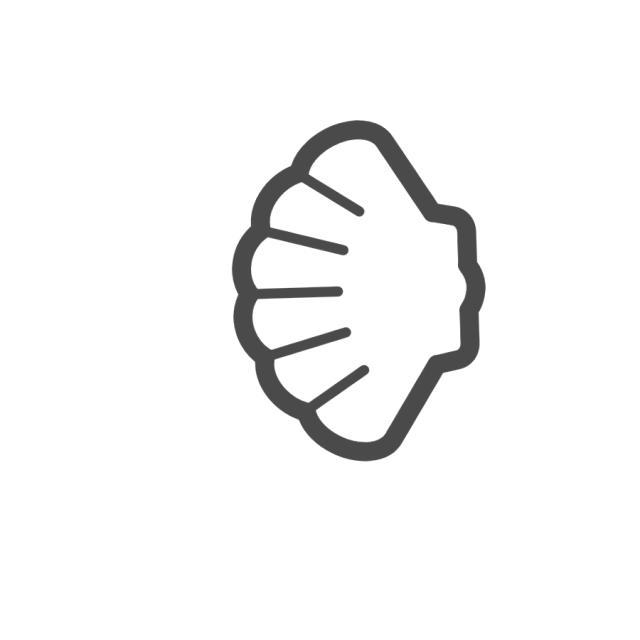shell: (225, 114, 491, 471)
